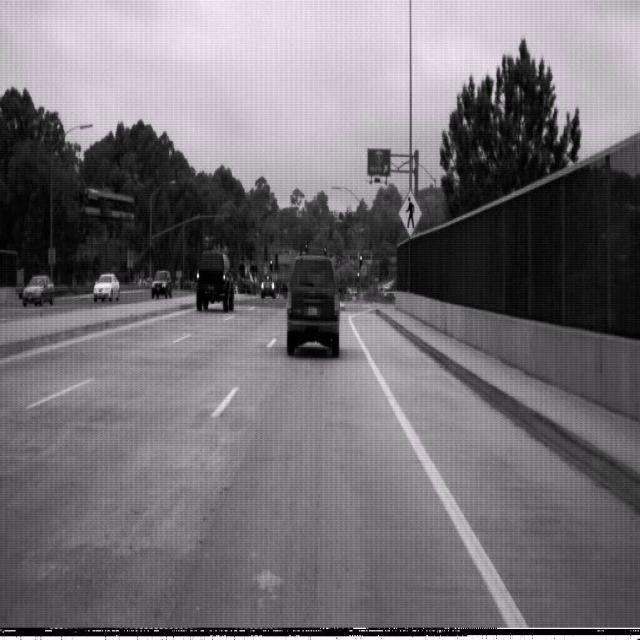pedestrianCrossing: (398, 186, 422, 238)
